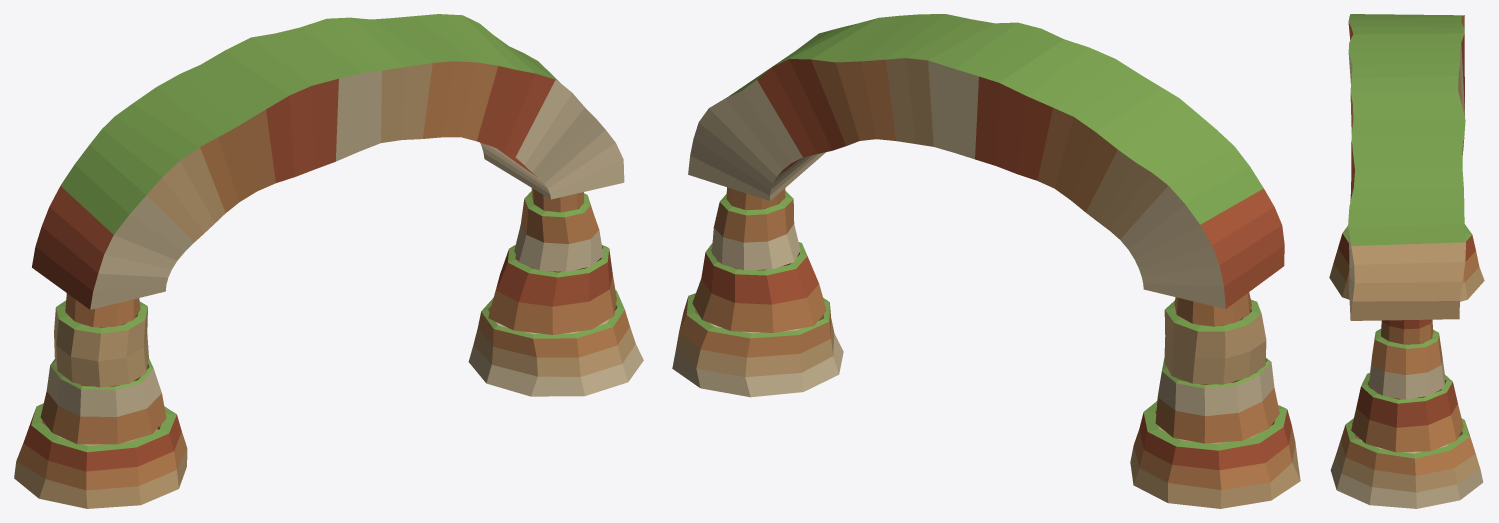
File: arch_giant.glb
The picture shows the model from 3 angles, left to right: view 1: azimuth 30°, elevation 25°; view 2: azimuth 150°, elevation 25°; view 3: azimuth 270°, elevation 25°; orthographic projection. The views are drawn at different scales.
Visible parts, largest first — view 1: arch_giant; view 2: arch_giant; view 3: arch_giant.
Part boxes in pixels (x1,y1,x2,y2): arch_giant: (14,14,643,508); arch_giant: (672,14,1300,508); arch_giant: (1329,14,1484,508).
Bounding box in the file's own units: 79.57 × 46.45 × 19.98.
